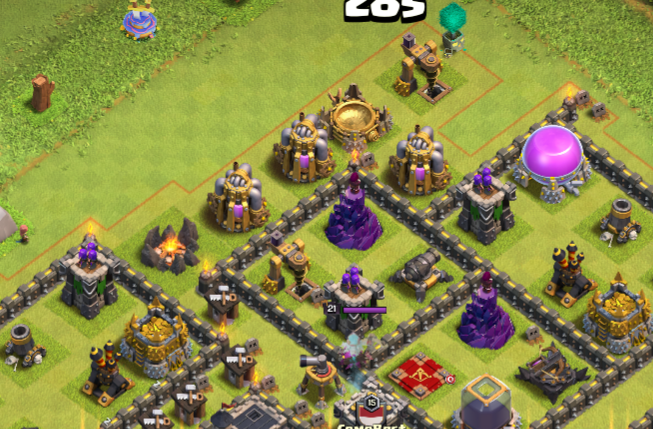dark_elixir_colector: (387, 24, 457, 112), (261, 232, 324, 313)
elixir_colector: (197, 154, 279, 240), (384, 112, 452, 207), (268, 113, 338, 192)
